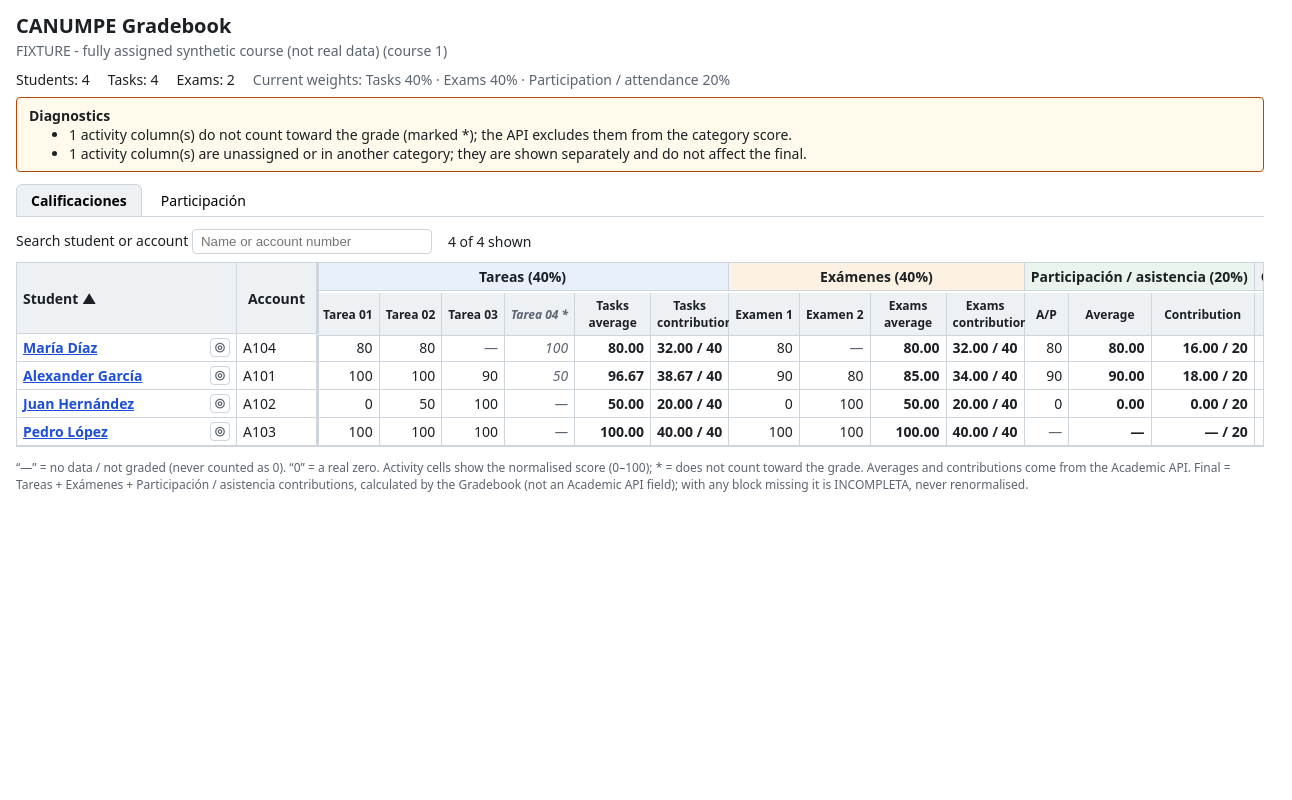
Test: Participación tab › lists every student with name, account and the current count / average / score
Expected: the table is shown, [17,263,1264,446]
Click the tab "Participación" at {"x": 203, "y": 200}, box [146,184,261,216]
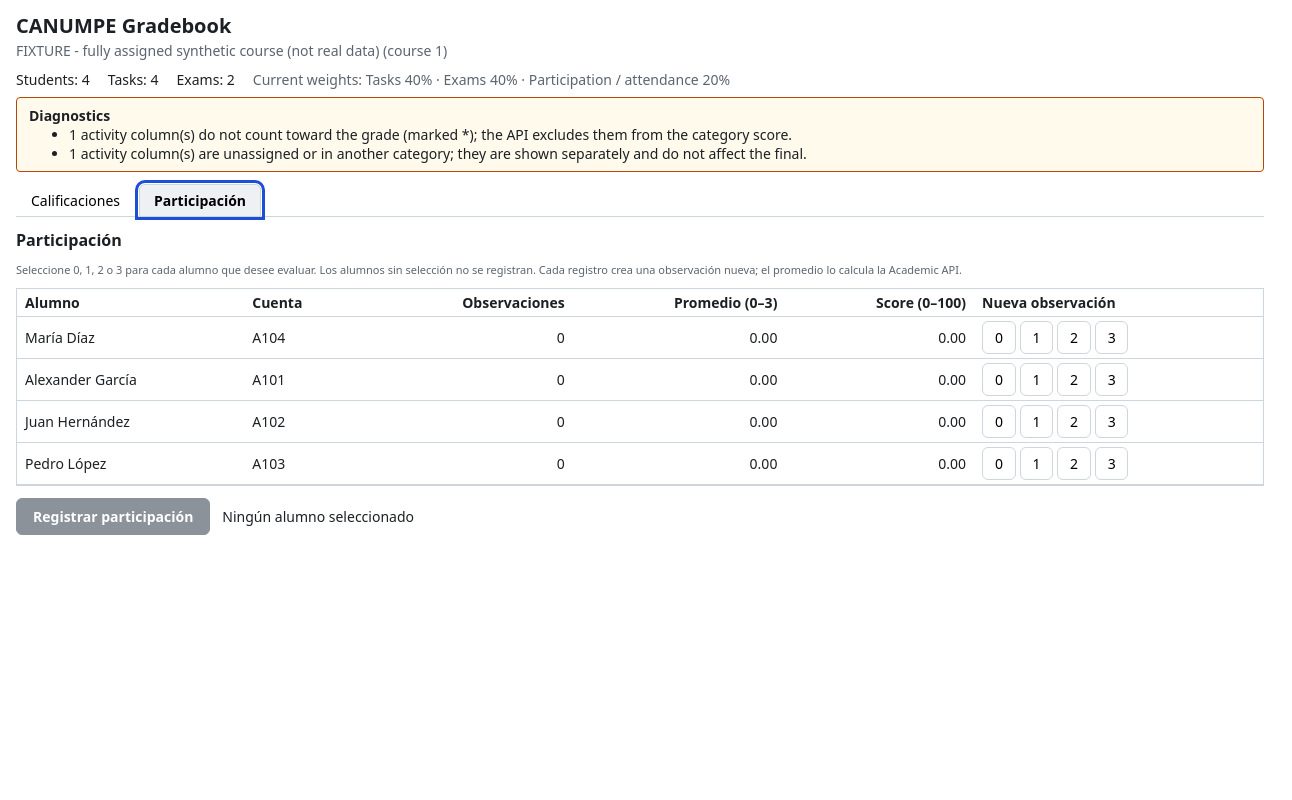
Click the radio button labelled "1" in the row of "Pedro López" at {"x": 1036, "y": 464}, box [1020,447,1053,480]
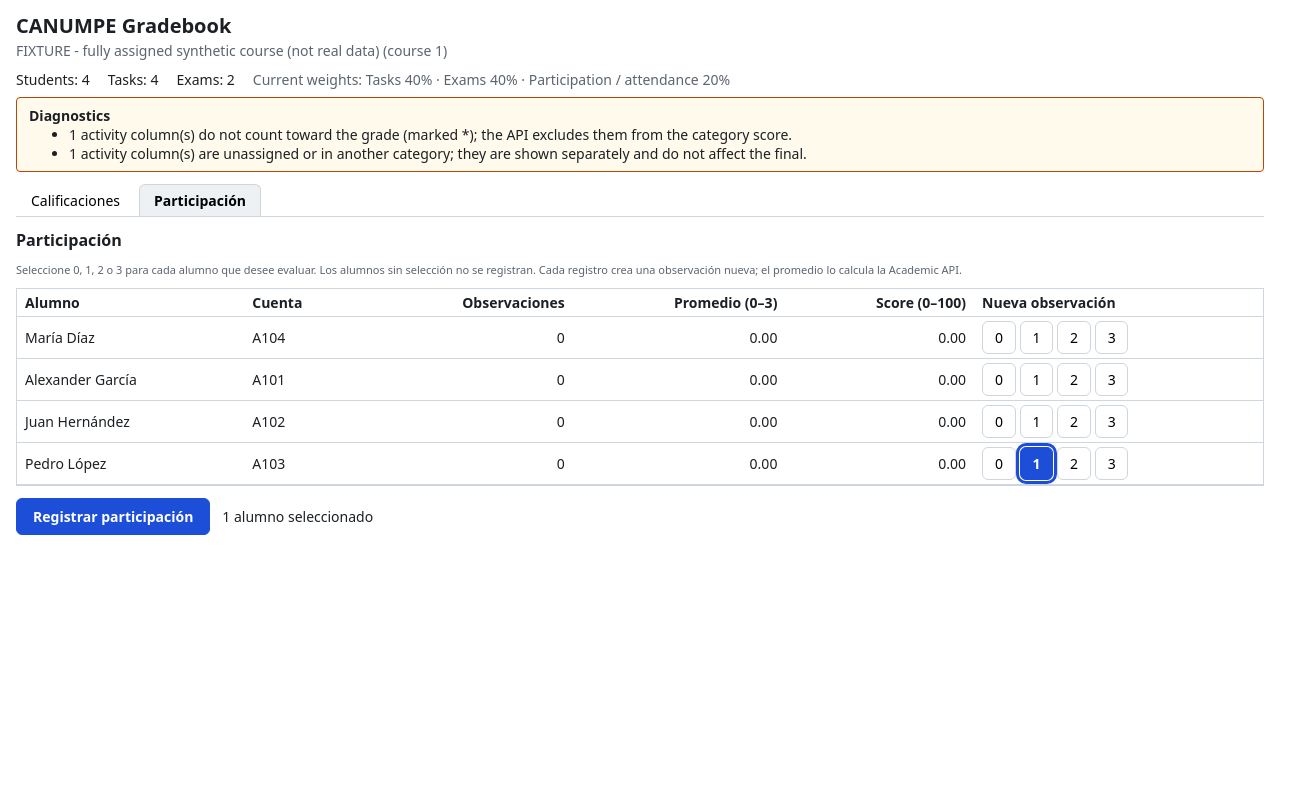
Click the button "Registrar participación" at {"x": 113, "y": 516}, box [16,498,210,535]
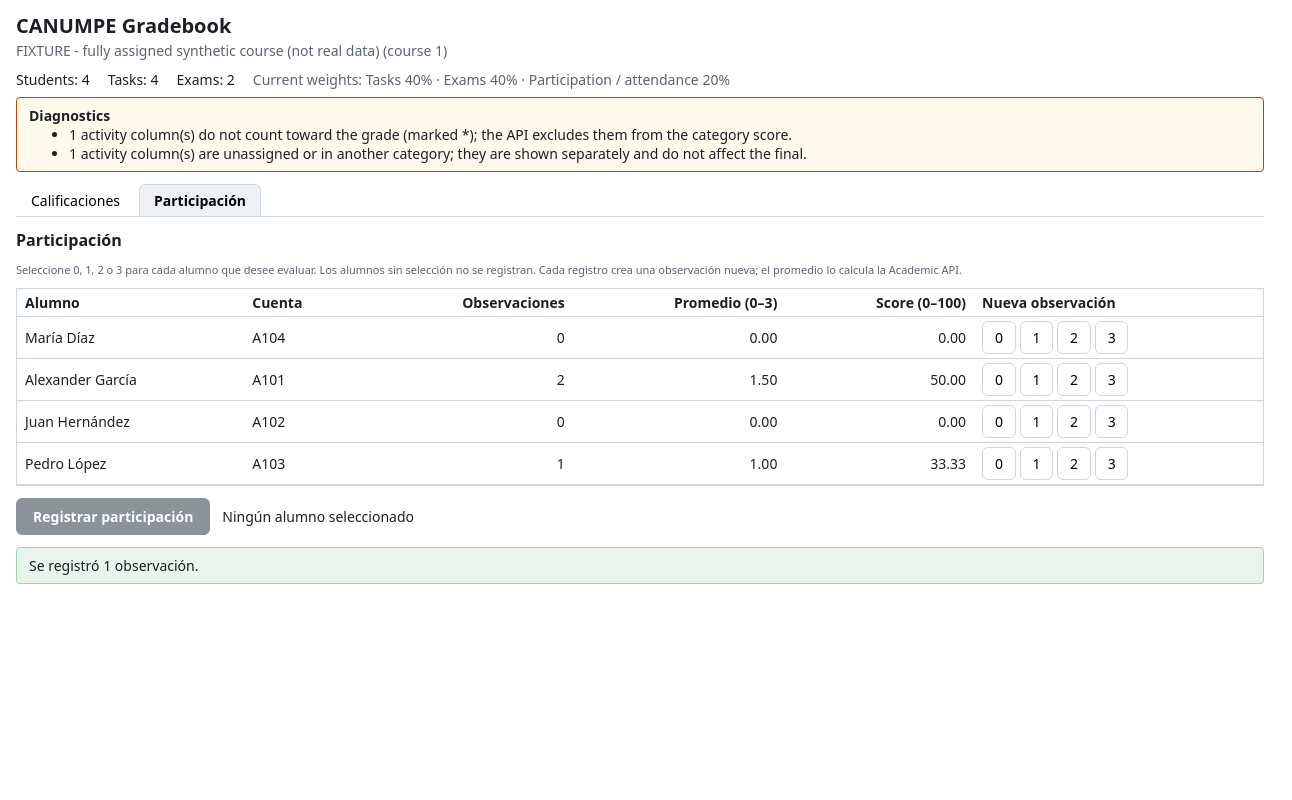
Now the row "Pedro López A103 1 1.00 33.33 0 1 2 3" is shown, box [17,442,1263,484]
Now the cell "1" is shown, box [362,442,573,484]
